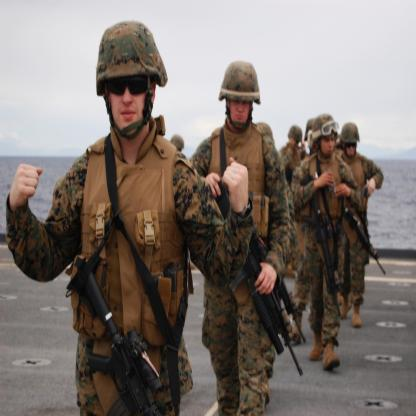Helmet: (94, 17, 166, 140), (214, 58, 260, 130), (311, 112, 343, 161), (338, 120, 359, 158), (170, 132, 186, 156), (290, 123, 304, 143), (302, 116, 310, 139)
